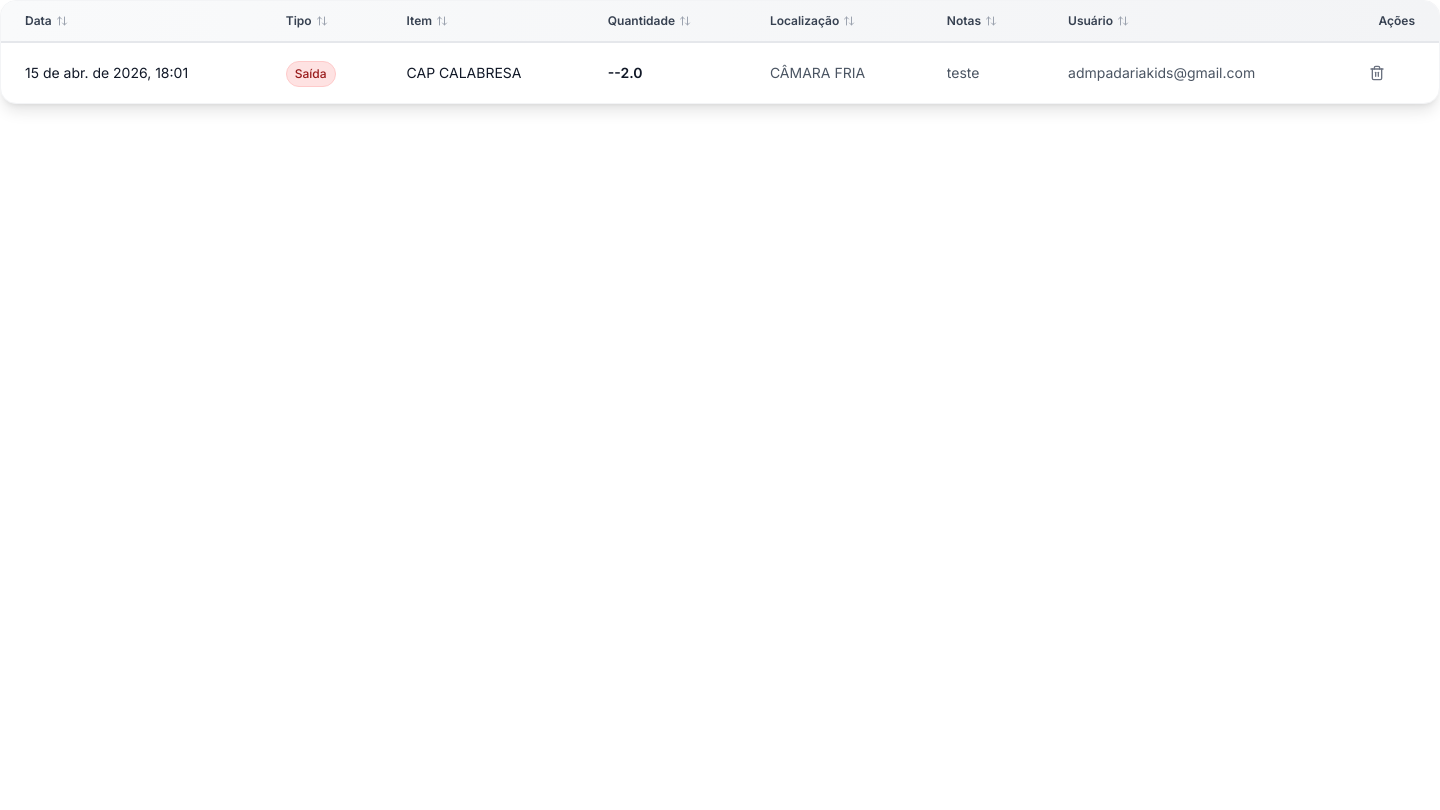
it: TransactionsList › closes the modal when cancelling deletion
This screenshot has width=1440, height=810.
Click the button named "Delete transaction": (1376, 73) left=1358, top=55, right=1394, bottom=91
(page scrolled)
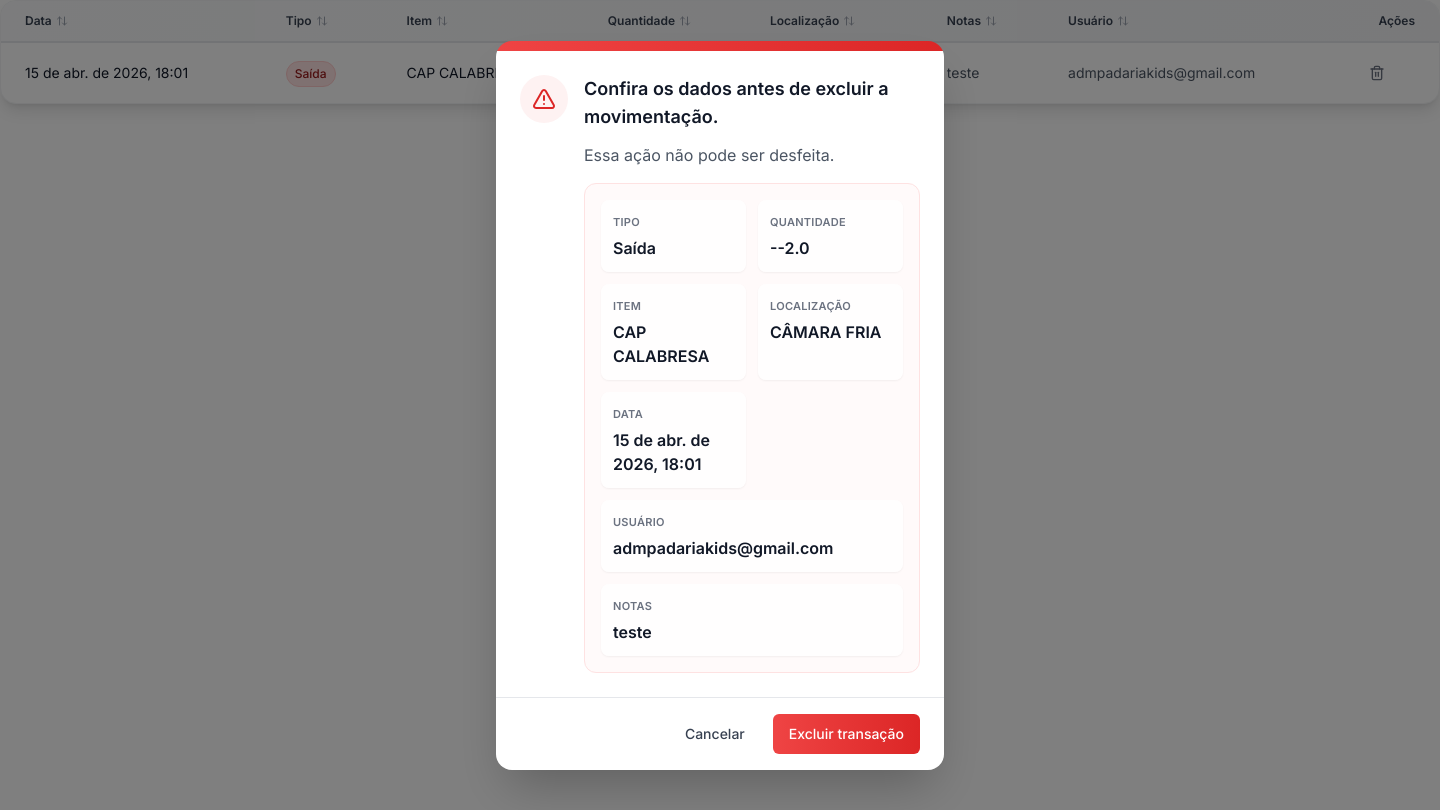
Click the button "Cancelar": (715, 734) left=669, top=714, right=761, bottom=754
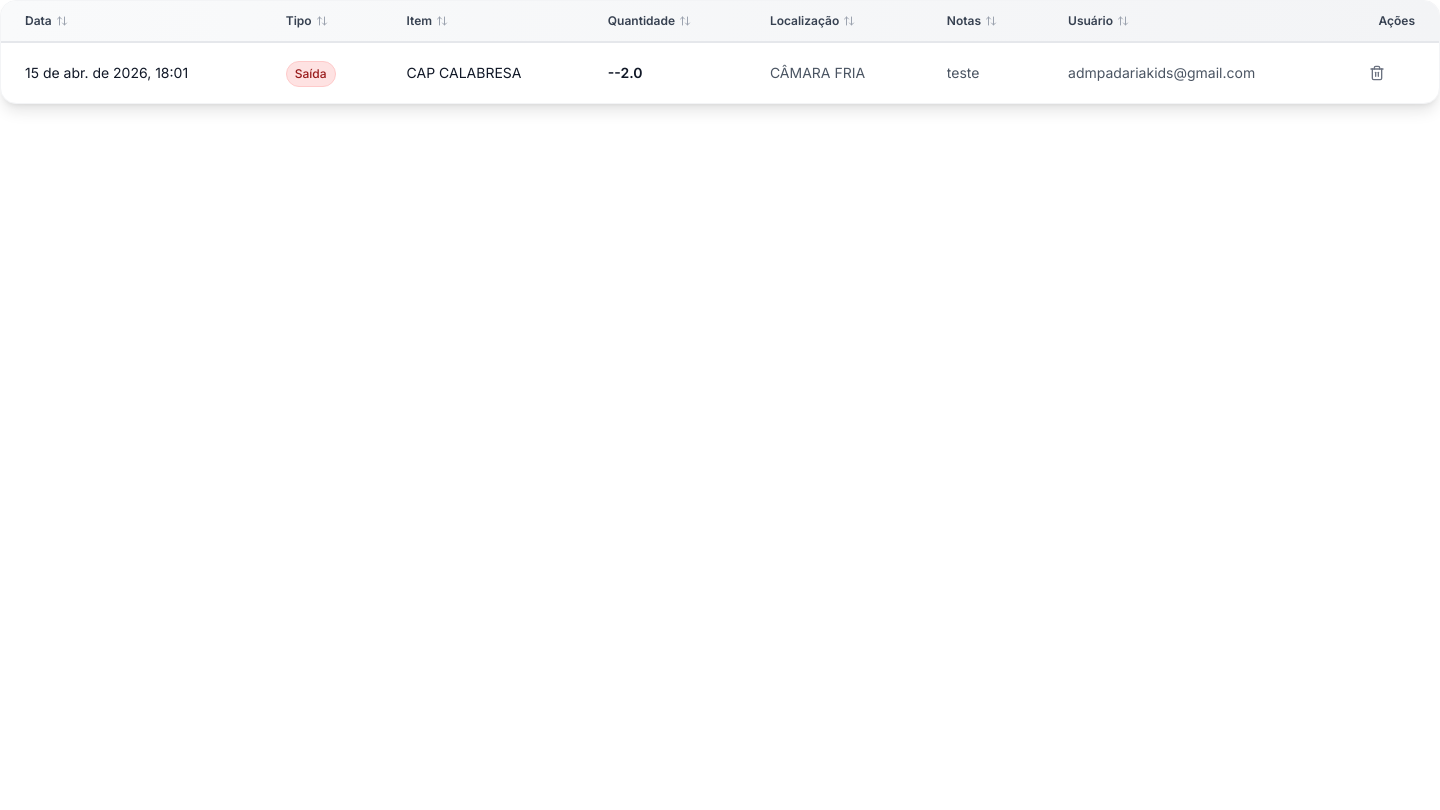
Check: the text "Confira os dados antes de excluir a movimentação." is gone
